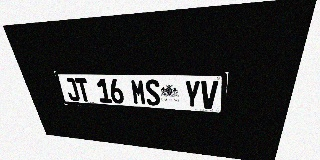1: (95, 78, 112, 103)
6: (108, 79, 125, 104)
J: (63, 78, 80, 101)
M: (130, 79, 147, 105)
S: (144, 79, 161, 106)
T: (74, 78, 92, 102)
V: (200, 80, 218, 109)
Y: (184, 80, 201, 108)
